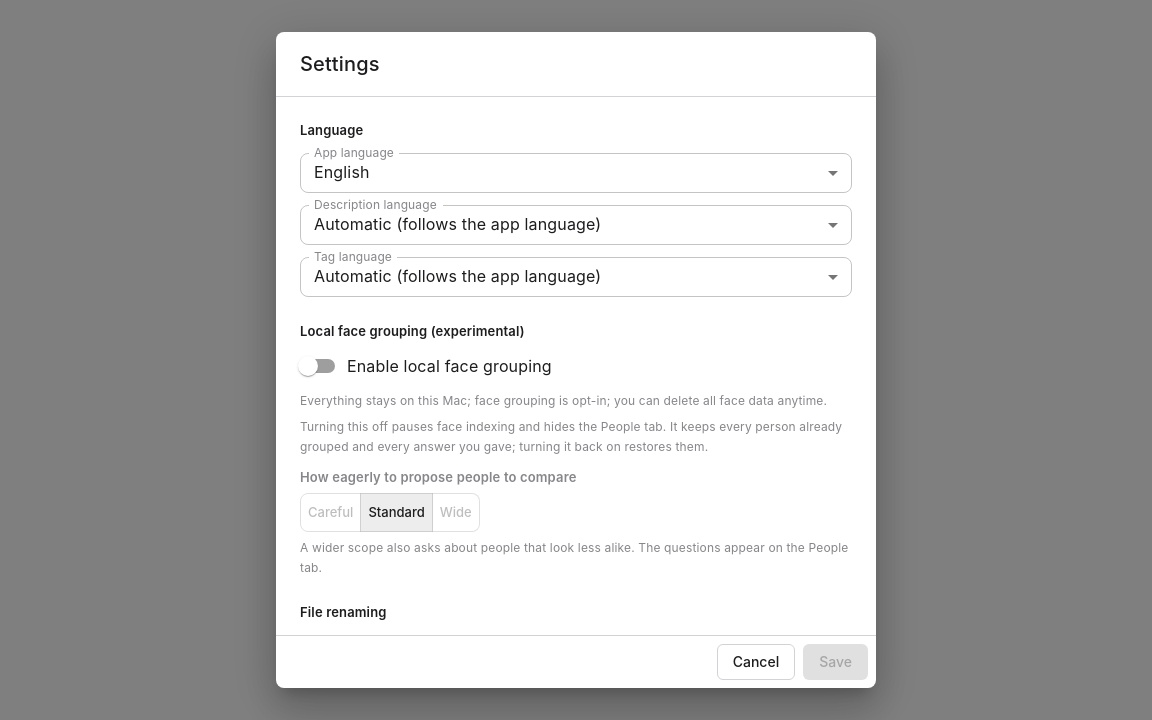
Scenario: settings modal › labels the pair review scope group and locks it while face grouping is off
The image size is (1152, 720).
(page scrolled)
Expected: the label "How eagerly to propose people to compare" is shown, [300,469,576,485]
Expected: the button with test id "settings-faces-pair-scope-wide" is disabled, [432,493,480,532]
Click the element with test id "faces-enabled-switch" at [308, 366], box [298,356,318,376]
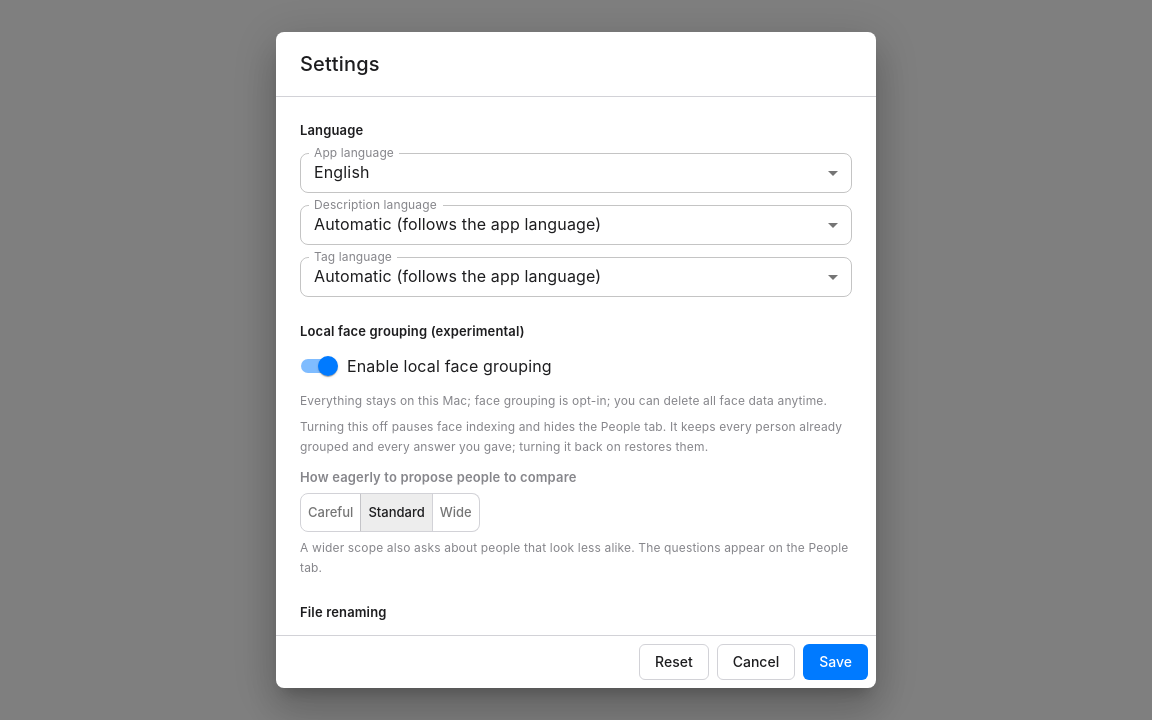
Now the button with test id "settings-faces-pair-scope-wide" is enabled, box [432,493,480,532]
